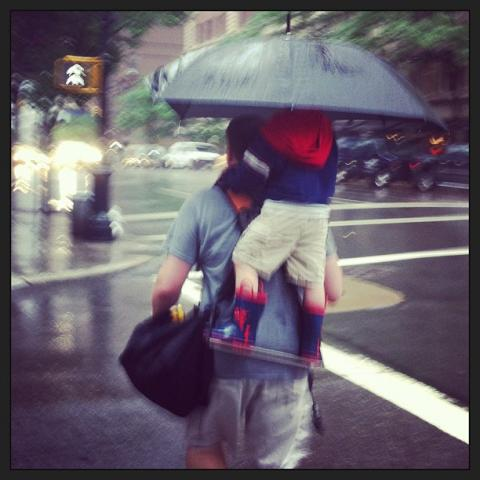car: (335, 136, 409, 189), (413, 144, 471, 193), (159, 140, 219, 169)
motorcycle: (375, 149, 440, 191)
